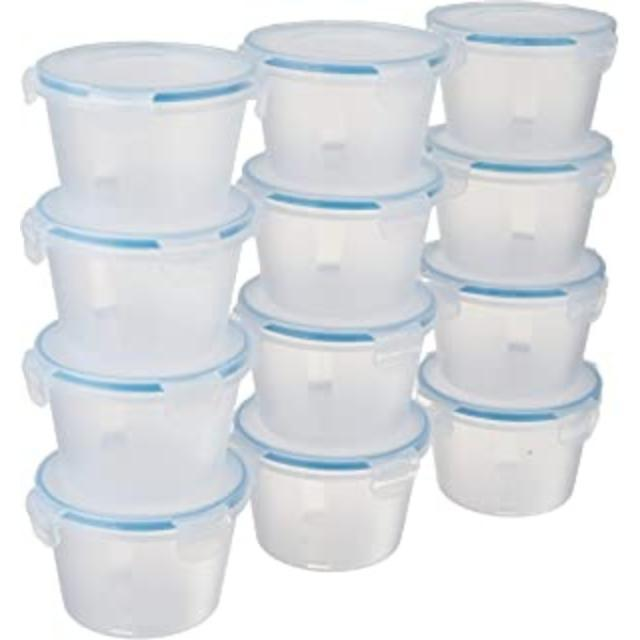plastic: (23, 3, 614, 636)
